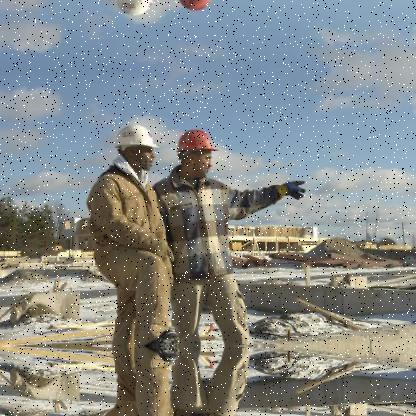helmet: (172, 122, 223, 179), (115, 117, 161, 171), (114, 0, 161, 20), (172, 0, 224, 15)
